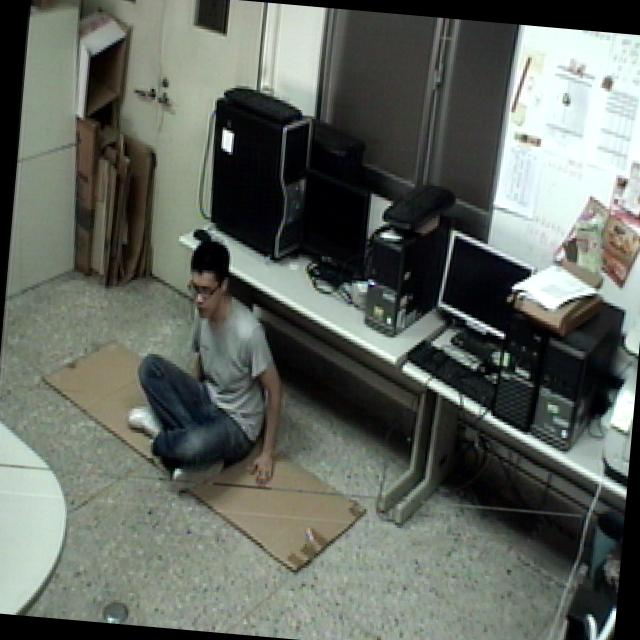sit: (116, 232, 298, 496)
